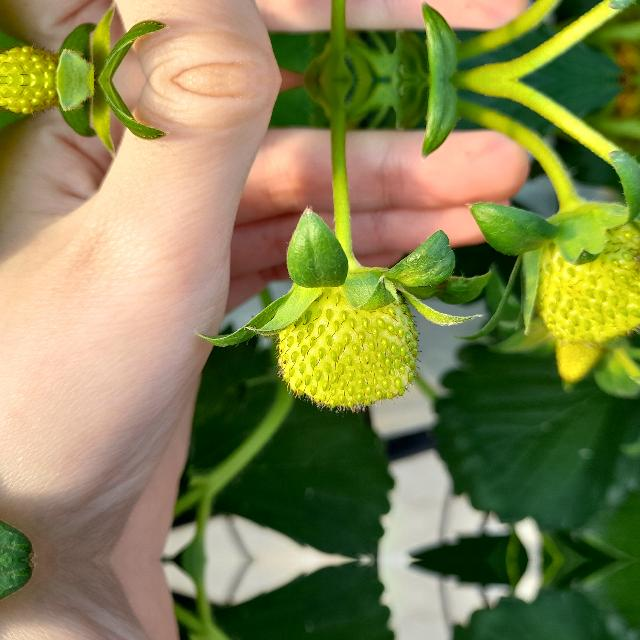Health_25: (511, 198, 639, 358), (272, 286, 422, 414)
